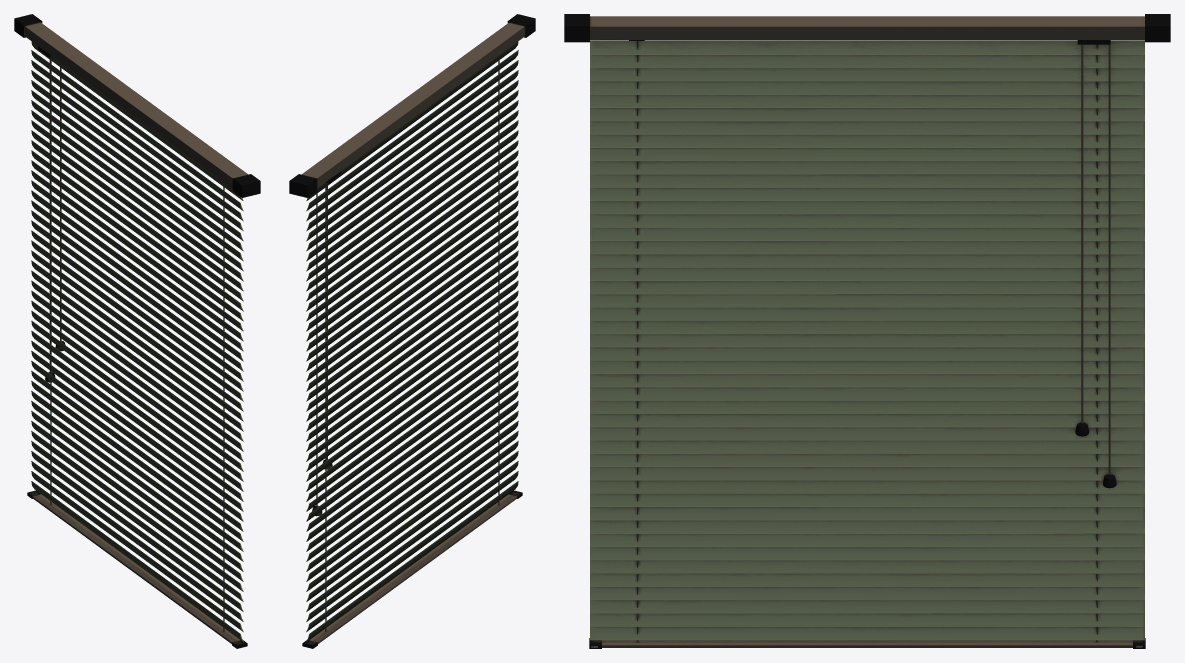
File: window_blind02_-_2mb.glb
The picture shows the model from 3 angles, left to right: view 1: azimuth 30°, elevation 25°; view 2: azimuth 150°, elevation 25°; view 3: azimuth 270°, elevation 25°; orthographic projection. The views are drawn at different scales.
Visible parts, largest first — view 1: Cylinder_1; view 2: Cylinder_1; view 3: Cylinder_1.
Part boxes in pixels (bbox=[...]): Cylinder_1: bbox=[14, 14, 260, 648]; Cylinder_1: bbox=[289, 14, 535, 648]; Cylinder_1: bbox=[564, 14, 1170, 648].
Size of the model in its own units: 0.0574 by 1.41 by 1.24.
1 material, 1 textured.
